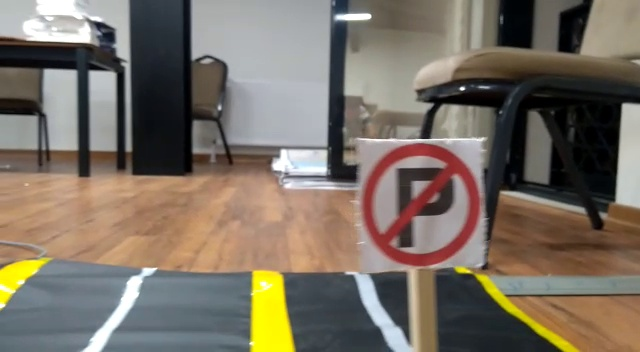park_yapilmaz: (361, 136, 486, 267)
